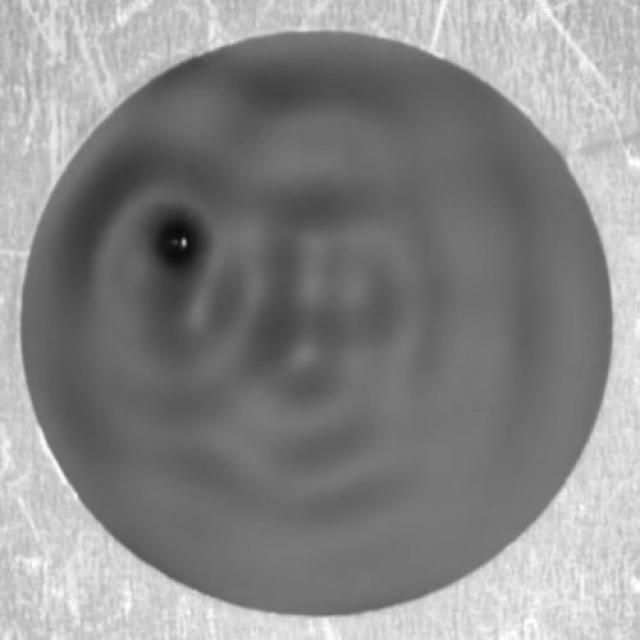droplet: (153, 223, 199, 266)
